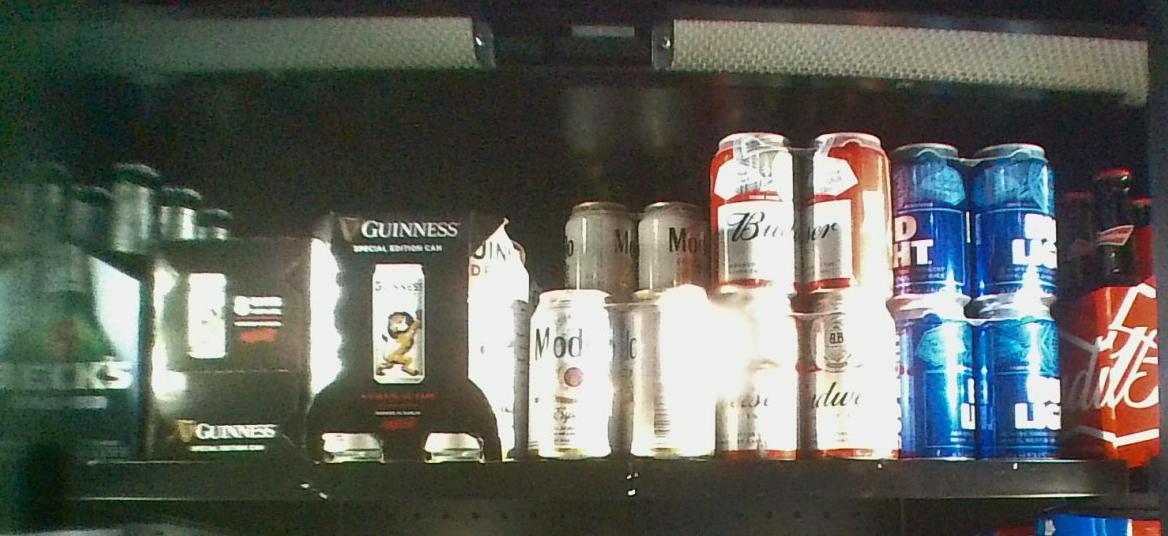bottle: (708, 133, 895, 454), (310, 202, 520, 460), (894, 143, 1065, 459), (1, 161, 143, 454), (149, 233, 305, 460), (537, 287, 718, 460)
